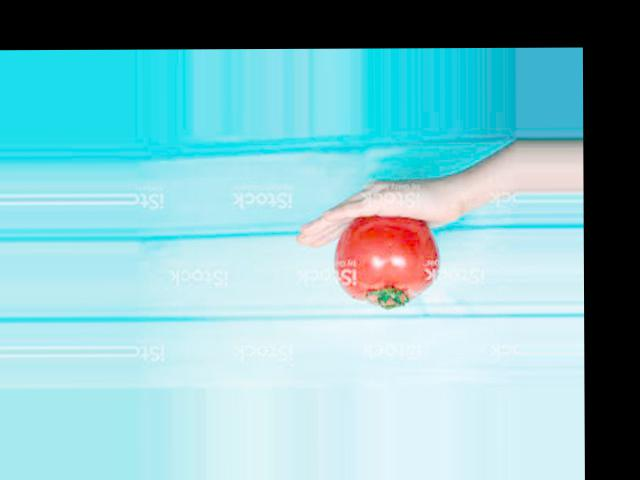tomato: (333, 214, 437, 308)
